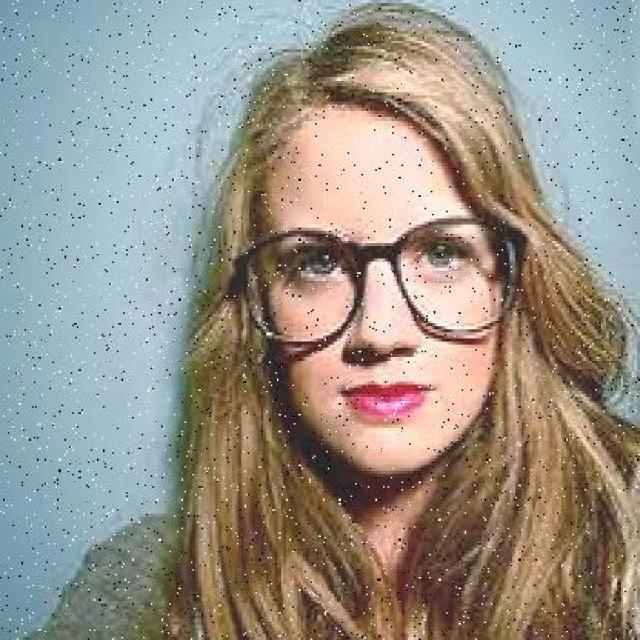mask: (222, 206, 538, 360)
